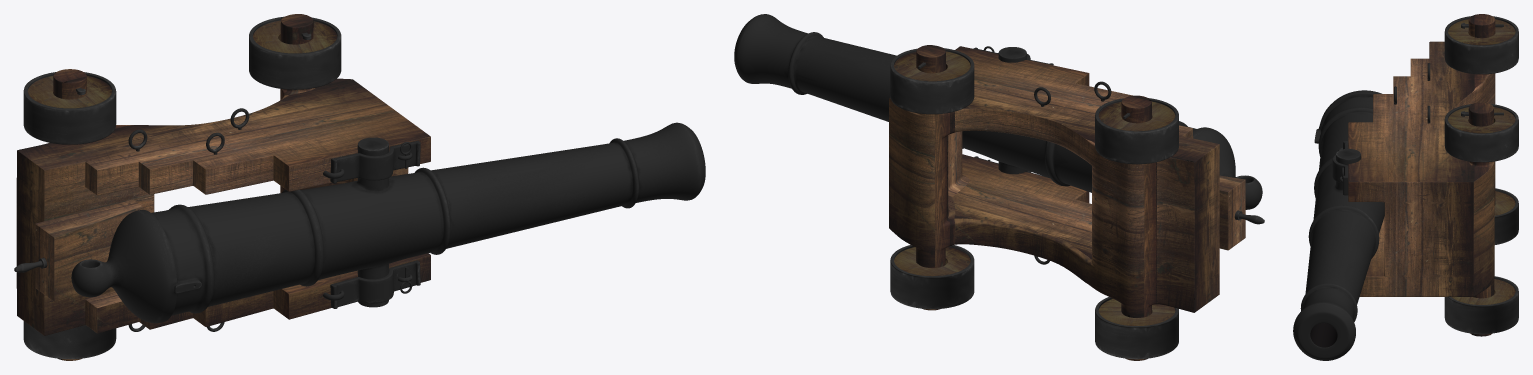
Rendered from 14054_Pirate_Ship_Cannon_on_Cart_v1_l3.obj.
3 renders of one model, left to right at view 1: azimuth 30°, elevation 25°; view 2: azimuth 150°, elevation 25°; view 3: azimuth 270°, elevation 25°, orthographic. The views are drawn at different scales.
Parts seen in each view (by area): view 1: 14054_Pirate_Ship_Cannon_on_Cart_barrel, 14054_Pirate_Ship_Cannon_on_Cart_cart, 14054_Pirate_Ship_Cannon_on_Cart_wheel_02, 14054_Pirate_Ship_Cannon_on_Cart_wheel_03, 14054_Pirate_Ship_Cannon_on_Cart_wheel_01; view 2: 14054_Pirate_Ship_Cannon_on_Cart_cart, 14054_Pirate_Ship_Cannon_on_Cart_barrel, 14054_Pirate_Ship_Cannon_on_Cart_wheel_03, 14054_Pirate_Ship_Cannon_on_Cart_wheel_04, 14054_Pirate_Ship_Cannon_on_Cart_wheel_02, 14054_Pirate_Ship_Cannon_on_Cart_wheel_01; view 3: 14054_Pirate_Ship_Cannon_on_Cart_cart, 14054_Pirate_Ship_Cannon_on_Cart_barrel, 14054_Pirate_Ship_Cannon_on_Cart_wheel_03, 14054_Pirate_Ship_Cannon_on_Cart_wheel_02, 14054_Pirate_Ship_Cannon_on_Cart_wheel_04, 14054_Pirate_Ship_Cannon_on_Cart_wheel_01.
Part boxes in pixels (x1,y1,x2,y2): 14054_Pirate_Ship_Cannon_on_Cart_barrel: (71,108,705,331); 14054_Pirate_Ship_Cannon_on_Cart_cart: (14,14,430,360); 14054_Pirate_Ship_Cannon_on_Cart_wheel_02: (23,72,116,144); 14054_Pirate_Ship_Cannon_on_Cart_wheel_03: (249,16,341,89); 14054_Pirate_Ship_Cannon_on_Cart_wheel_01: (23,321,116,359); 14054_Pirate_Ship_Cannon_on_Cart_cart: (889,45,1264,360); 14054_Pirate_Ship_Cannon_on_Cart_barrel: (734,14,1262,264); 14054_Pirate_Ship_Cannon_on_Cart_wheel_03: (890,48,974,114); 14054_Pirate_Ship_Cannon_on_Cart_wheel_04: (890,245,974,309); 14054_Pirate_Ship_Cannon_on_Cart_wheel_02: (1095,98,1178,164); 14054_Pirate_Ship_Cannon_on_Cart_wheel_01: (1095,297,1178,359); 14054_Pirate_Ship_Cannon_on_Cart_cart: (1348,14,1503,336); 14054_Pirate_Ship_Cannon_on_Cart_barrel: (1293,63,1430,360); 14054_Pirate_Ship_Cannon_on_Cart_wheel_03: (1444,104,1518,162); 14054_Pirate_Ship_Cannon_on_Cart_wheel_02: (1444,16,1518,74); 14054_Pirate_Ship_Cannon_on_Cart_wheel_04: (1444,276,1518,334); 14054_Pirate_Ship_Cannon_on_Cart_wheel_01: (1494,188,1518,244).
Size of the model in its own units: 178 by 75.97 by 69.58.
Materials: 3 (3 with a texture image).
